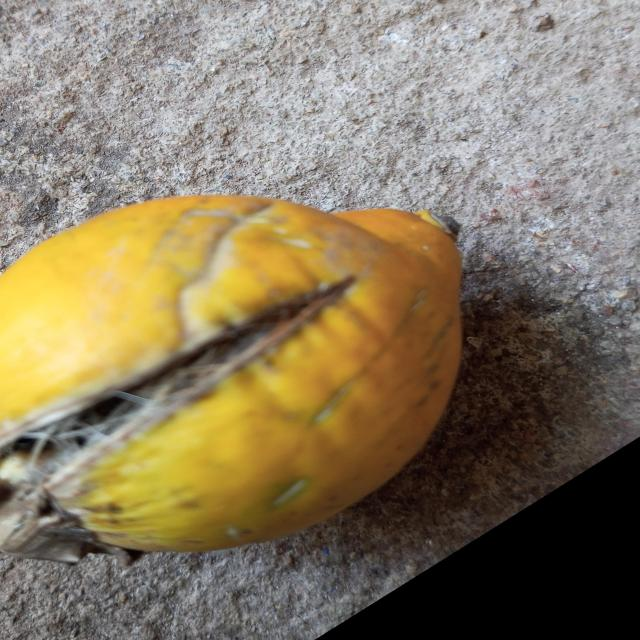damaged: (0, 195, 465, 568)
